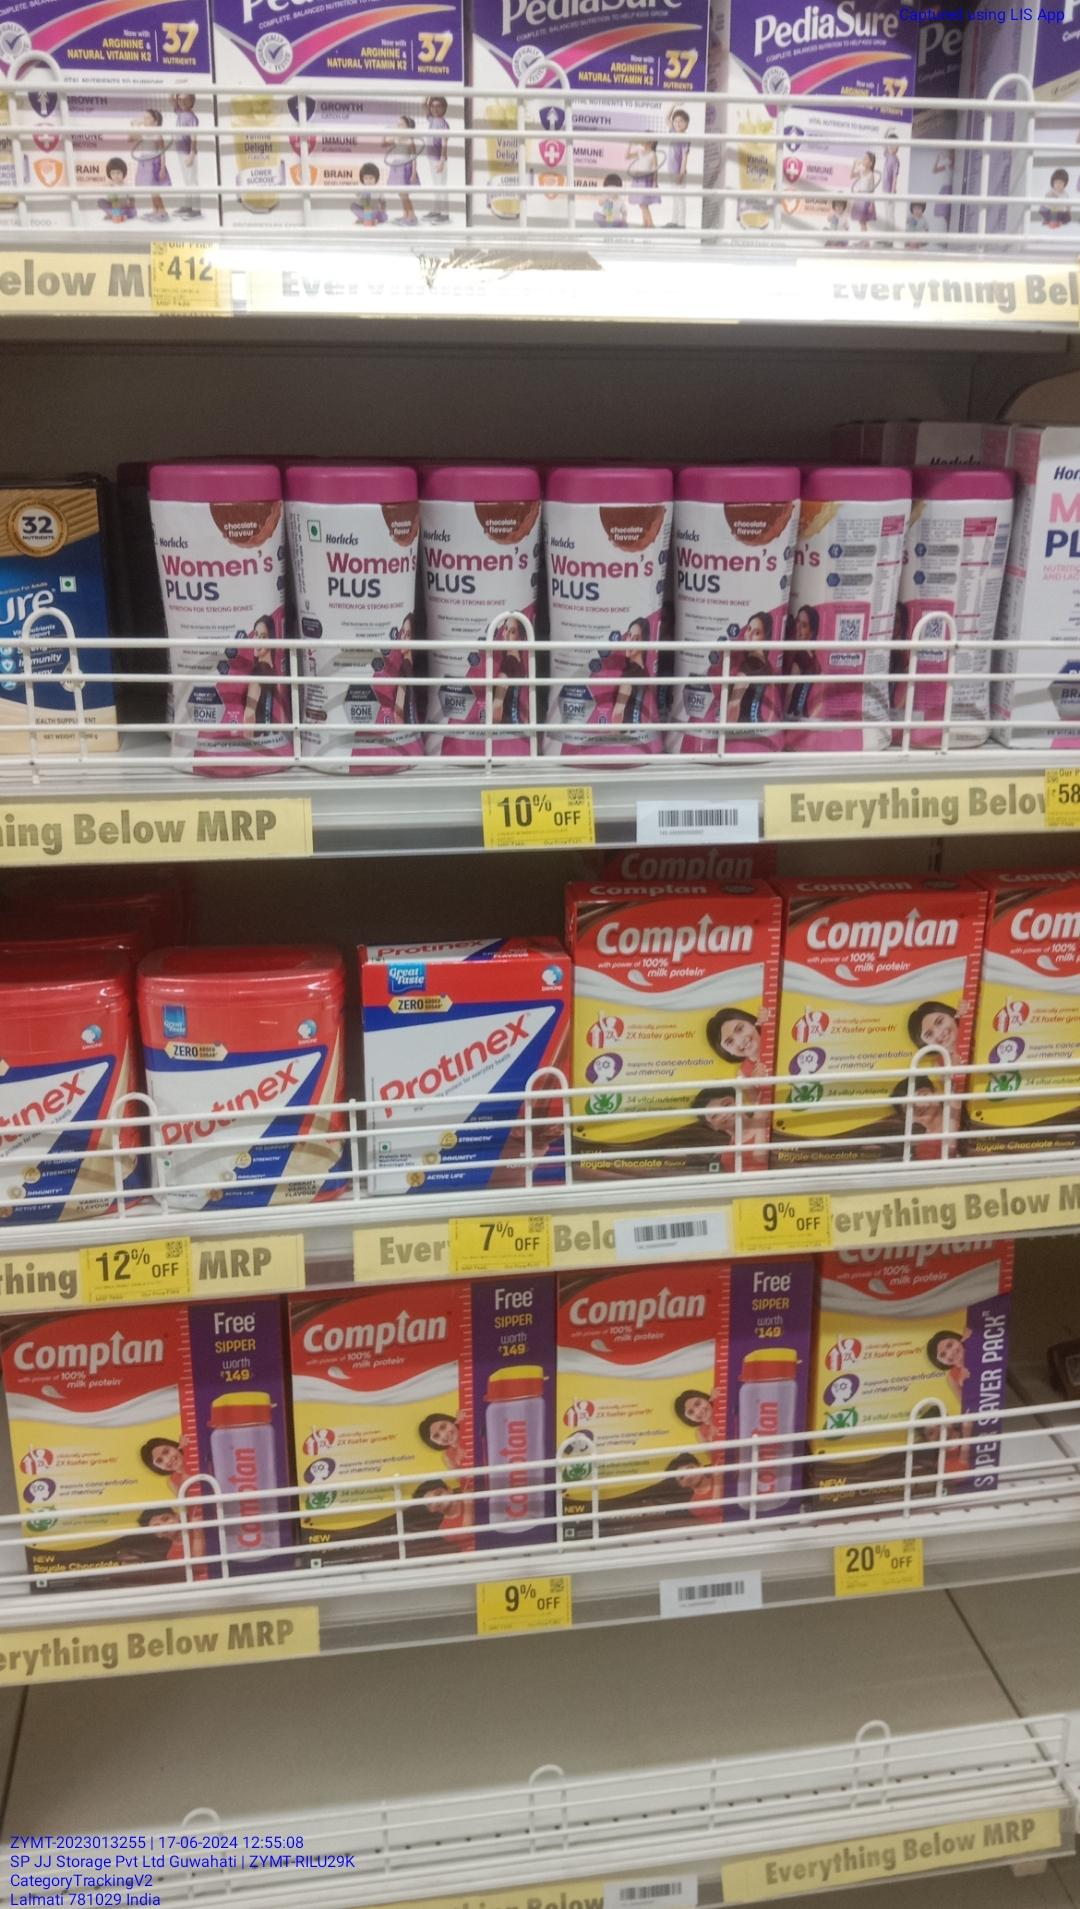COMPLAN_CHOCOLATE_1_KG_PACK: (5, 1318, 290, 1568), (560, 1264, 810, 1520), (298, 1299, 552, 1543), (820, 1248, 1008, 1493)
COMPLAN_CHOCOLATE_500_GMS_PACK: (578, 903, 769, 1171), (780, 897, 958, 1154)
PROTINEX_VANILLA_400_G_JAR: (143, 969, 341, 1205)
